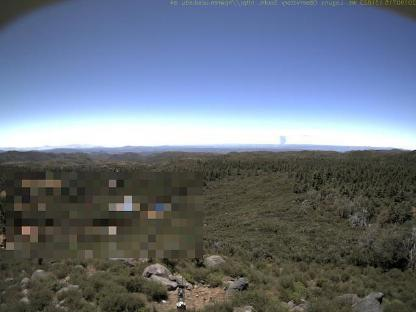smoke: (276, 134, 288, 150)
